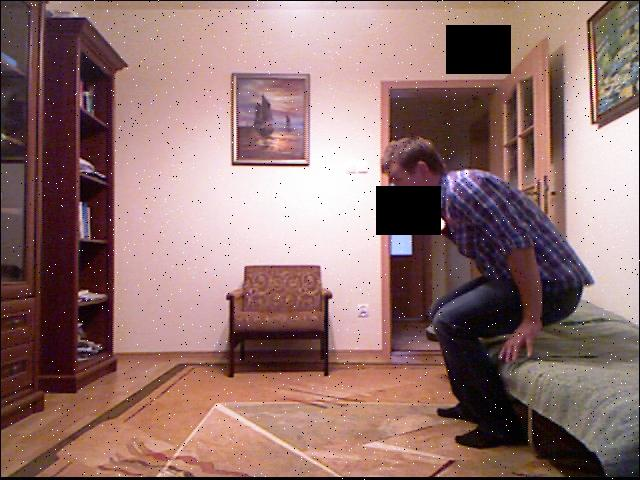sitting: (369, 107, 597, 452)
